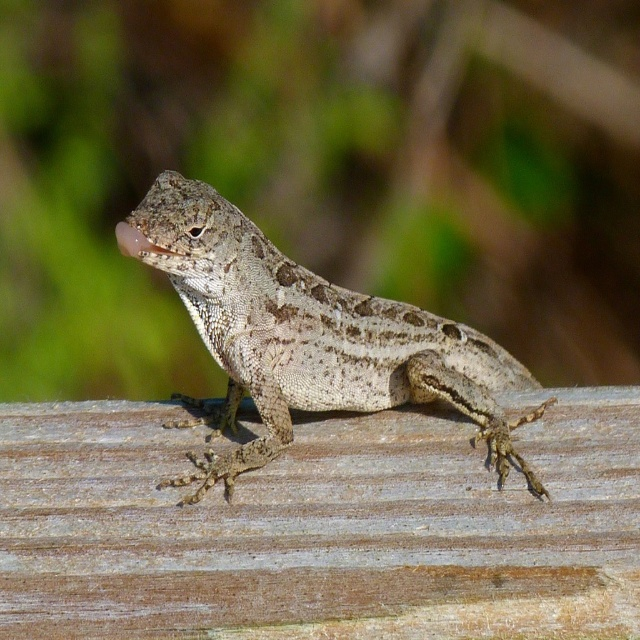Lizard: (114, 166, 554, 503)
